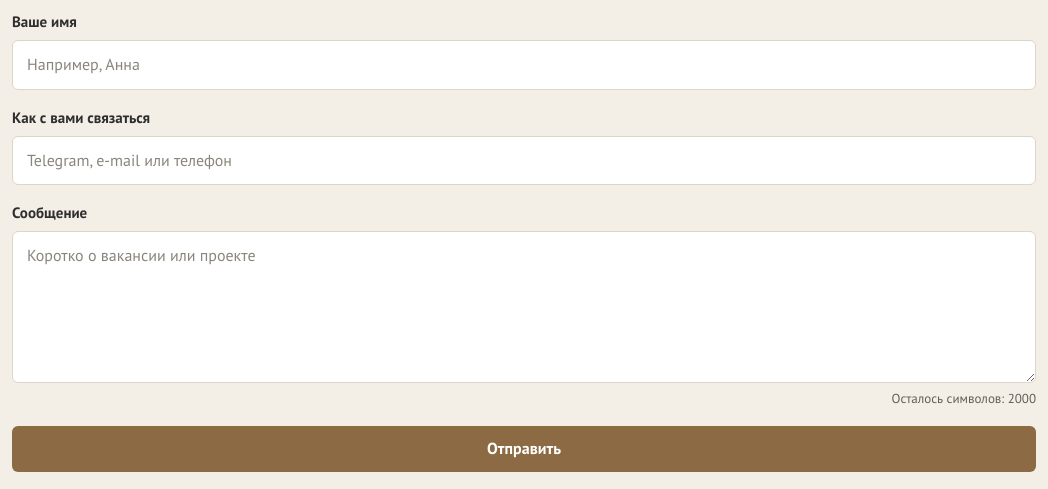
it: ContactForm › ограничивает длину полей и показывает, сколько символов осталось в сообщении
The width and height of the screenshot is (1048, 489).
Expected: the text "Осталось символов: 2000" is shown, [892, 389, 1036, 410]
Type "Привет" into the text box labelled "Сообщение" at (524, 307), box [12, 231, 1036, 383]
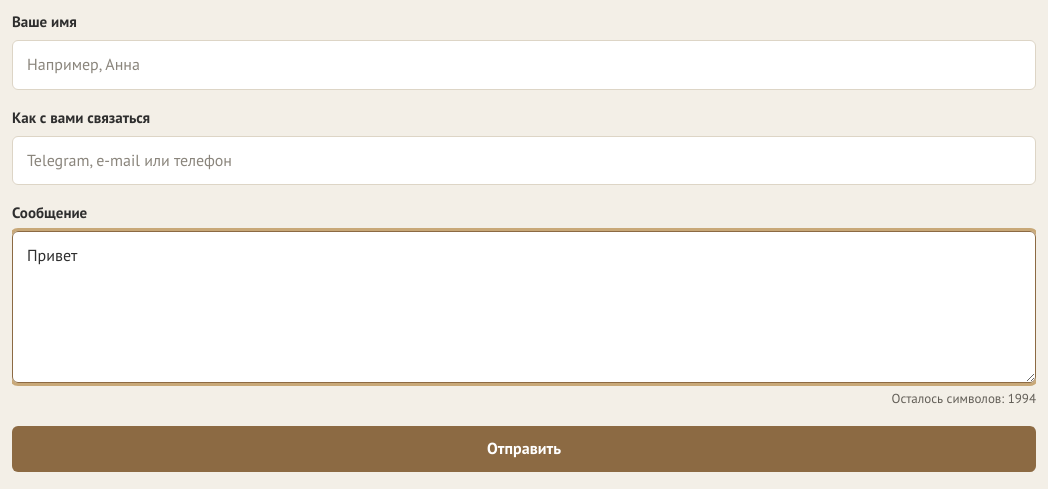
Expected: the text "Осталось символов: 1994" is shown, [892, 389, 1036, 410]
